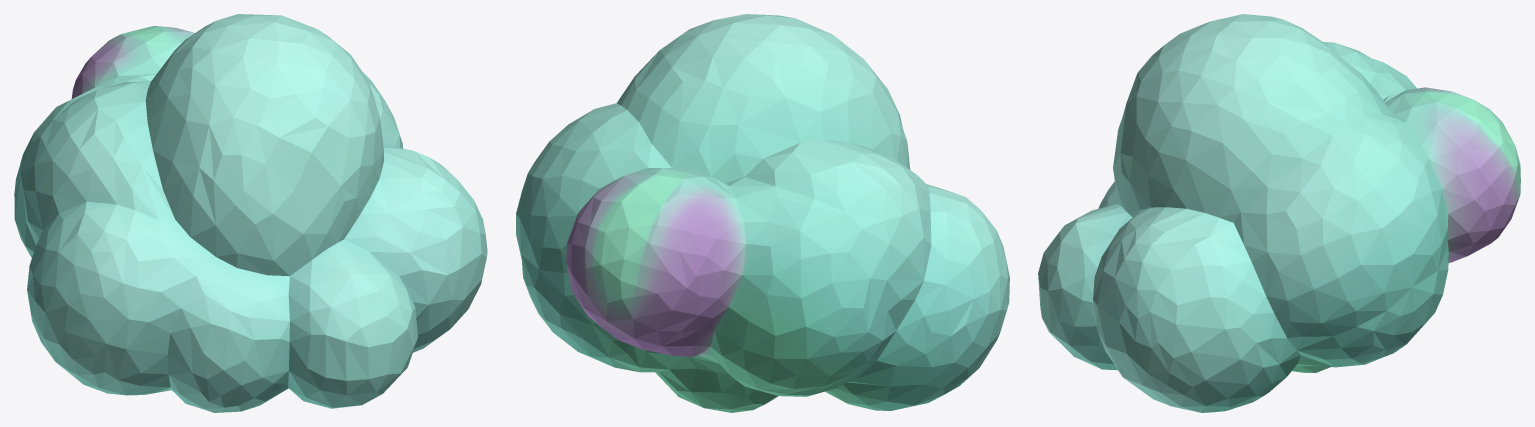
File: cloud_big.fbx
3 views of the same model, side by side, from view 1: azimuth 30°, elevation 25°; view 2: azimuth 150°, elevation 25°; view 3: azimuth 270°, elevation 25° (orthographic). The views are drawn at different scales.
Visible parts, largest first — view 1: Mesh_0; view 2: Mesh_0; view 3: Mesh_0.
Boxes of the visible parts, x1,y1,x2,y2 form: Mesh_0: (14,14,487,412); Mesh_0: (516,14,1009,412); Mesh_0: (1038,14,1520,412).
Size of the model in its own units: 1.28 by 1 by 1.3.
1 material, 1 textured.
